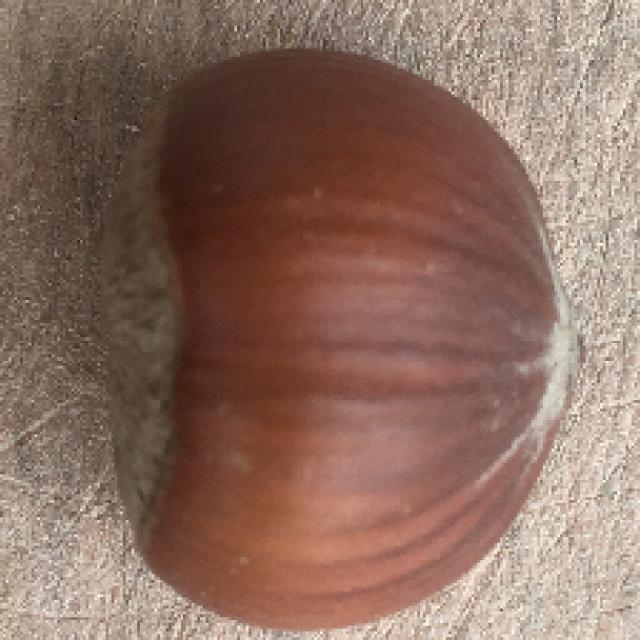DamagedHazelnut: (90, 51, 582, 625)
